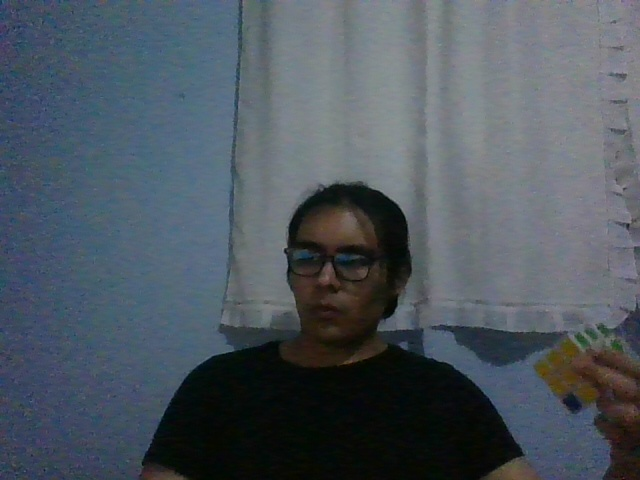rubik: (533, 322, 626, 414)
